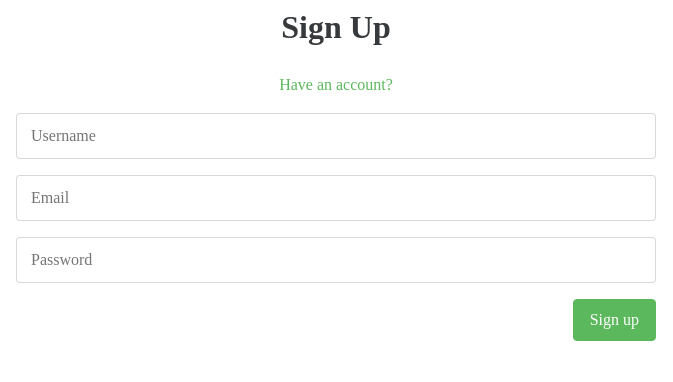
Register form › [TC-014] [unit] shows the error when the API rejects a blank email
Click the button "Sign up" at (614, 320), box [573,299,656,341]
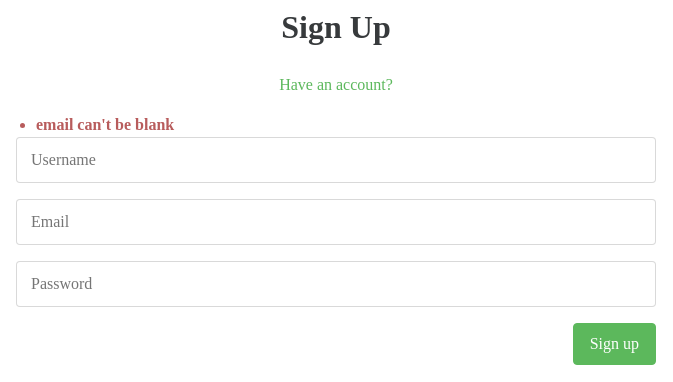
Now the list item "email can't be blank" is shown, box [36,116,174,133]
